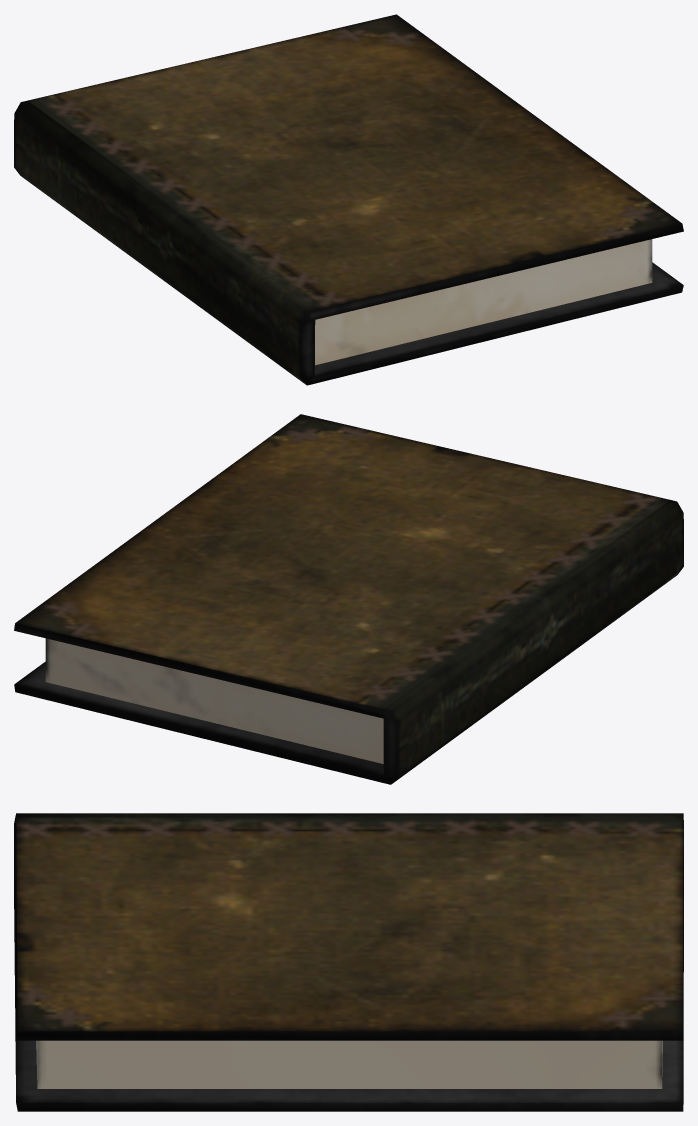
File: Diary.fbx
The picture shows the model from 3 angles, top to bottom: view 1: azimuth 30°, elevation 25°; view 2: azimuth 150°, elevation 25°; view 3: azimuth 270°, elevation 25°; orthographic projection. The views are drawn at different scales.
Visible parts, largest first — view 1: Diary_LOD0; view 2: Diary_LOD0; view 3: Diary_LOD0.
Boxes of the visible parts, left/top/right/bottom form: Diary_LOD0: left=14, top=14, right=683, bottom=385; Diary_LOD0: left=14, top=414, right=683, bottom=784; Diary_LOD0: left=14, top=813, right=683, bottom=1111.
Bounding box in the file's own units: 17.36 × 3.18 × 22.56.
1 material, 1 textured.
